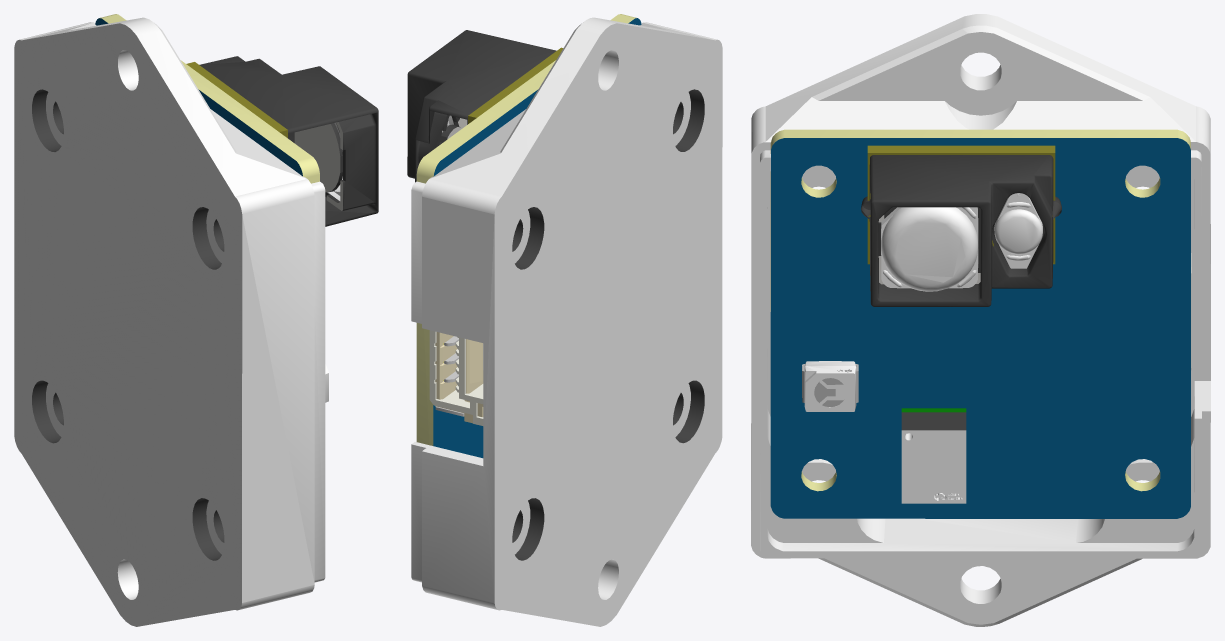
File: sensor.obj
The picture shows the model from 3 angles, left to right: view 1: azimuth 30°, elevation 25°; view 2: azimuth 150°, elevation 25°; view 3: azimuth 270°, elevation 25°; orthographic projection.
Visible parts, largest first — view 1: Доставщик_09.10_Датчик_оптического_потока_H-FLOW_v2; view 2: Доставщик_09.10_Датчик_оптического_потока_H-FLOW_v2; view 3: Доставщик_09.10_Датчик_оптического_потока_H-FLOW_v2.
Part boxes in pixels (bbox=[...]): Доставщик_09.10_Датчик_оптического_потока_H-FLOW_v2: bbox=[14, 14, 378, 626]; Доставщик_09.10_Датчик_оптического_потока_H-FLOW_v2: bbox=[407, 14, 722, 626]; Доставщик_09.10_Датчик_оптического_потока_H-FLOW_v2: bbox=[751, 14, 1210, 626].
Size of the model in its own units: 14.15 by 40.99 by 28.39.
